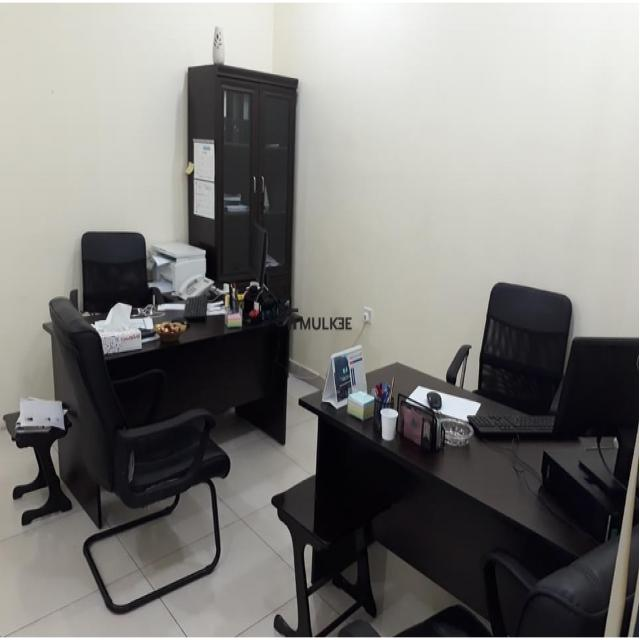chair: (56, 304, 228, 542), (464, 279, 571, 430), (86, 220, 159, 342)
computer: (573, 325, 640, 505), (242, 218, 280, 316)
desk: (320, 317, 625, 557), (49, 276, 308, 410)
wardrobe: (194, 58, 298, 426)
